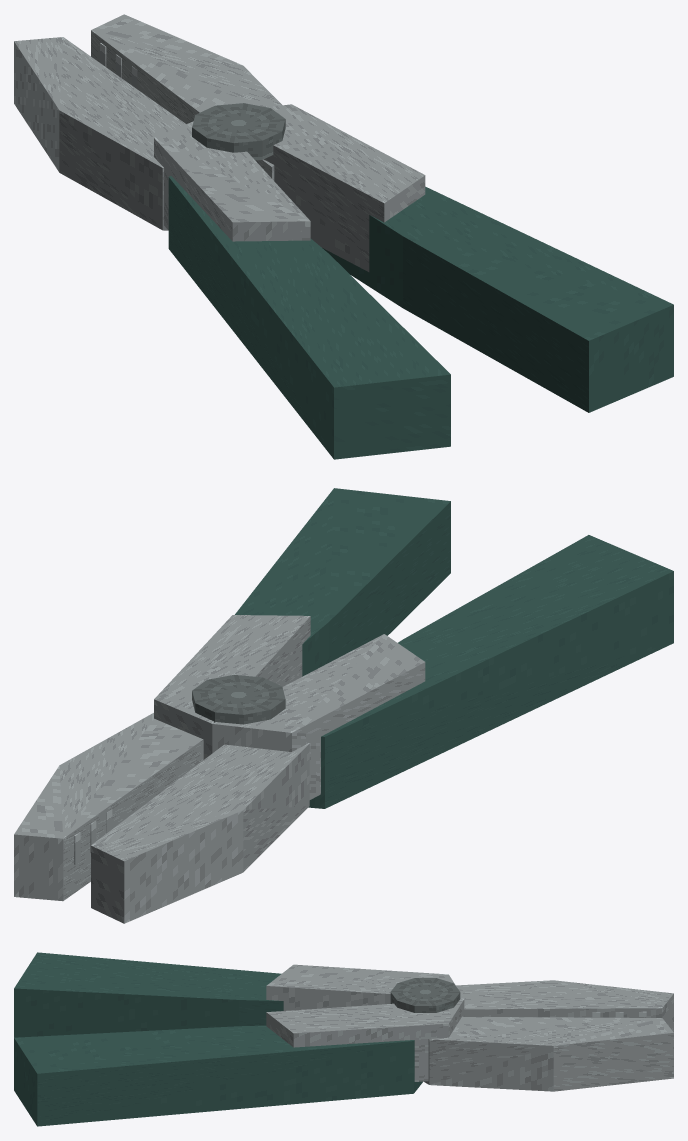
Rendered from pliers.glb.
3 views of the same model, one above another, from view 1: azimuth 30°, elevation 25°; view 2: azimuth 150°, elevation 25°; view 3: azimuth 270°, elevation 25° (orthographic). The views are drawn at different scales.
Parts seen in each view (by area): view 1: block_grip 1, block_grip -1, block_forged jaw -1, block_neck 1, block_forged jaw 1, block_neck -1, block_adjustable pivot; view 2: block_grip -1, block_forged jaw -1, block_grip 1, block_forged jaw 1, block_neck -1, block_neck 1, block_adjustable pivot; view 3: block_grip 1, block_grip -1, block_forged jaw 1, block_neck 1, block_forged jaw -1, block_neck -1, block_adjustable pivot.
Boxes of the visible parts, left/top/right/bottom form: block_grip 1: left=322, top=186, right=673, bottom=412; block_grip -1: left=168, top=176, right=450, bottom=459; block_forged jaw -1: left=14, top=37, right=185, bottom=230; block_neck 1: left=255, top=104, right=425, bottom=271; block_forged jaw 1: left=91, top=14, right=282, bottom=180; block_neck -1: left=154, top=121, right=310, bottom=241; block_adjustable pivot: left=192, top=103, right=285, bottom=160; block_grip -1: left=308, top=535, right=673, bottom=808; block_forged jaw -1: left=91, top=743, right=309, bottom=923; block_grip 1: left=235, top=488, right=450, bottom=676; block_forged jaw 1: left=14, top=713, right=203, bottom=901; block_neck -1: left=212, top=634, right=425, bottom=799; block_neck 1: left=154, top=615, right=310, bottom=759; block_adjustable pivot: left=192, top=675, right=285, bottom=724; block_grip 1: left=14, top=1025, right=422, bottom=1126; block_grip -1: left=14, top=952, right=283, bottom=1037; block_forged jaw 1: left=424, top=1016, right=673, bottom=1091; block_neck 1: left=266, top=999, right=464, bottom=1081; block_forged jaw -1: left=456, top=980, right=673, bottom=1032; block_neck -1: left=266, top=964, right=463, bottom=1010; block_adjustable pivot: left=390, top=978, right=460, bottom=1012.
Size of the model in its own units: 0.074 by 0.021 by 0.17.
Materials: 1 (1 with a texture image).
